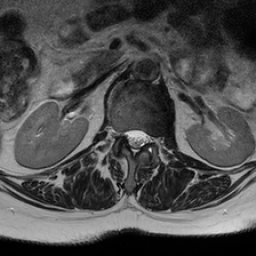CCS_normal: (131, 123, 139, 162)
LFS_stenosis: (148, 124, 157, 150)
LLS_normal: (139, 123, 148, 155)
RFS_stenosis: (115, 121, 123, 145)
RLS_normal: (123, 122, 131, 148)
